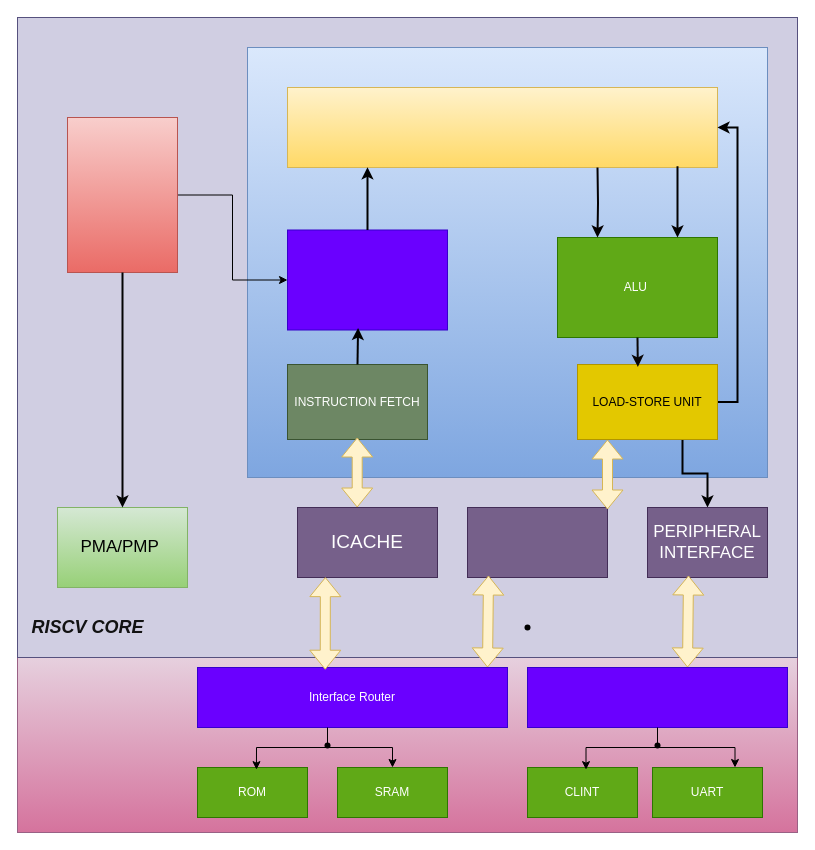
Image size: 815x850. Some labels were removed from this diagram. Each missing label, with the centre of its shape:
"CSR" belongs at point (122, 194).
"DCACHE" belongs at point (537, 542).
"DECODE" belongs at point (367, 279).
"INSTRUCTION REGISTERS" belongs at point (502, 127).
"Peripheral Bus" belongs at point (657, 697).
